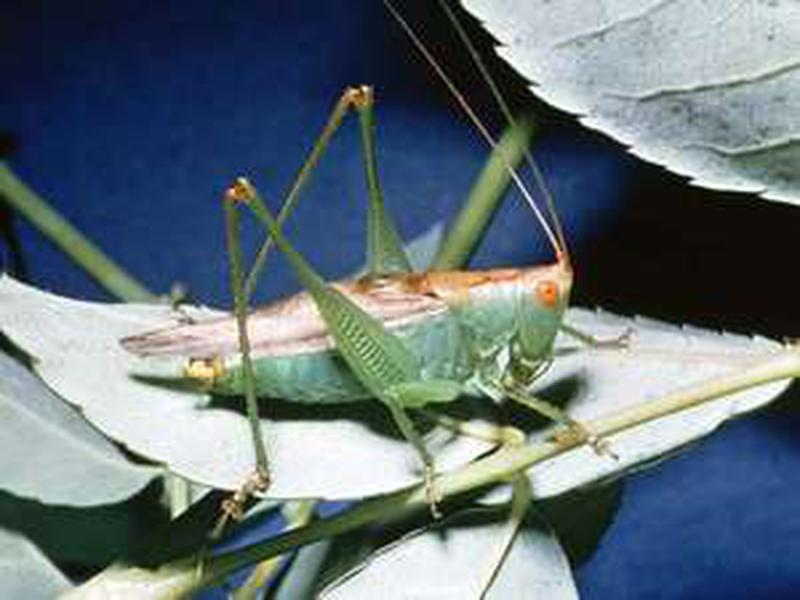Grasshopper: (111, 194, 598, 484)
